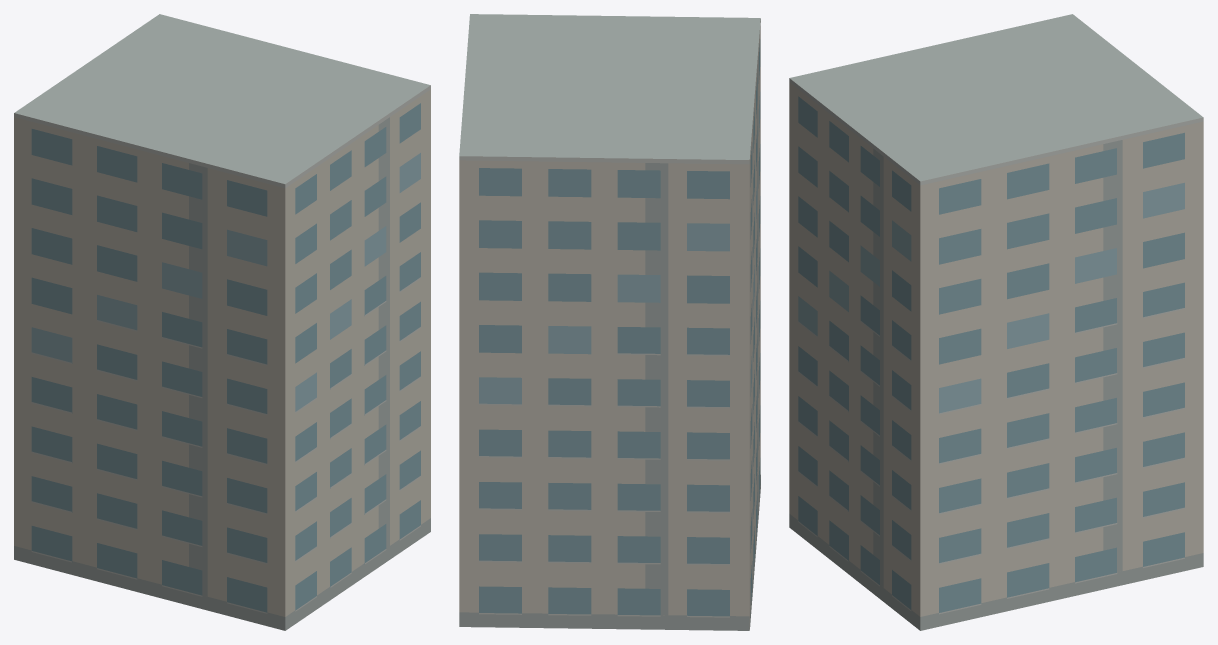
Rendered from residential-5c9c6593-b106-415a-9db4-7334c5c9614c.glb.
3 renders of one model, left to right at view 1: azimuth 30°, elevation 25°; view 2: azimuth 150°, elevation 25°; view 3: azimuth 270°, elevation 25°, orthographic. The views are drawn at different scales.
Parts seen in each view (by area): view 1: residential-5c9c6593-b106-415a-9db4-7334c5c9614c.tmp; view 2: residential-5c9c6593-b106-415a-9db4-7334c5c9614c.tmp; view 3: residential-5c9c6593-b106-415a-9db4-7334c5c9614c.tmp.
Boxes of the visible parts, <box> form: residential-5c9c6593-b106-415a-9db4-7334c5c9614c.tmp: <box>14,14,430,630</box>; residential-5c9c6593-b106-415a-9db4-7334c5c9614c.tmp: <box>459,14,760,630</box>; residential-5c9c6593-b106-415a-9db4-7334c5c9614c.tmp: <box>789,14,1203,630</box>.
Size of the model in its own units: 21.59 by 27 by 22.56.
